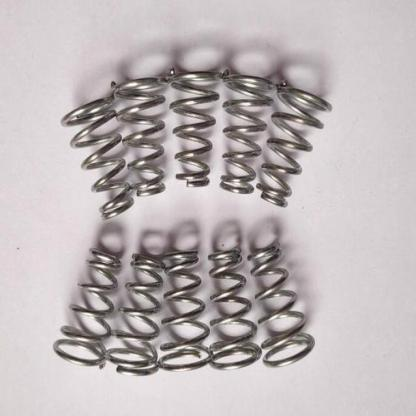FOD: (253, 77, 336, 208), (60, 95, 136, 224), (52, 242, 125, 376), (245, 240, 316, 370), (109, 73, 173, 198), (217, 65, 277, 195), (107, 246, 163, 381), (160, 244, 216, 377), (166, 63, 222, 192), (207, 245, 263, 374)
